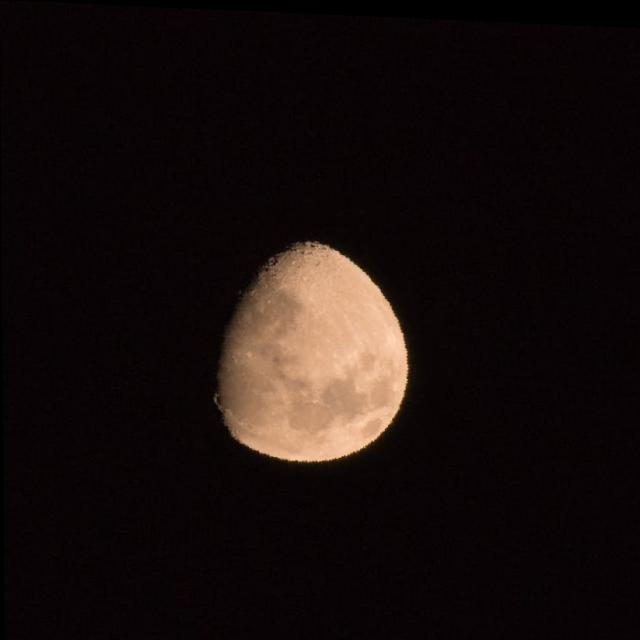moon: (167, 186, 449, 478)
